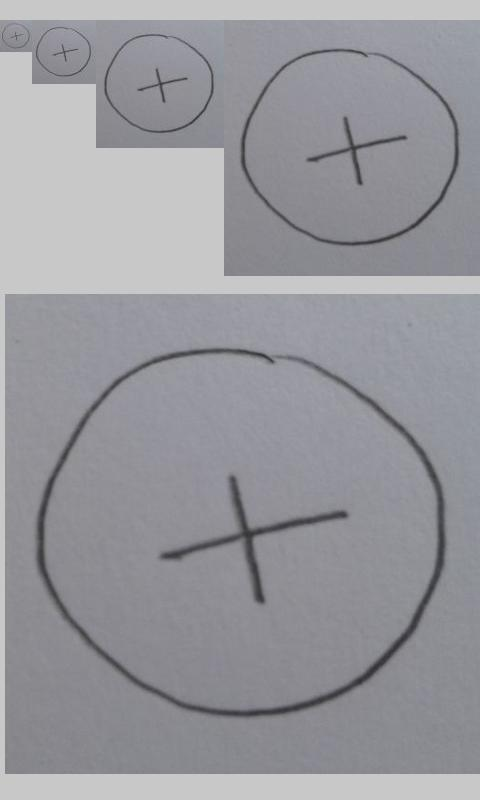button: (33, 345, 448, 719), (240, 47, 459, 246), (103, 32, 216, 134), (35, 26, 91, 77), (1, 23, 30, 49)
